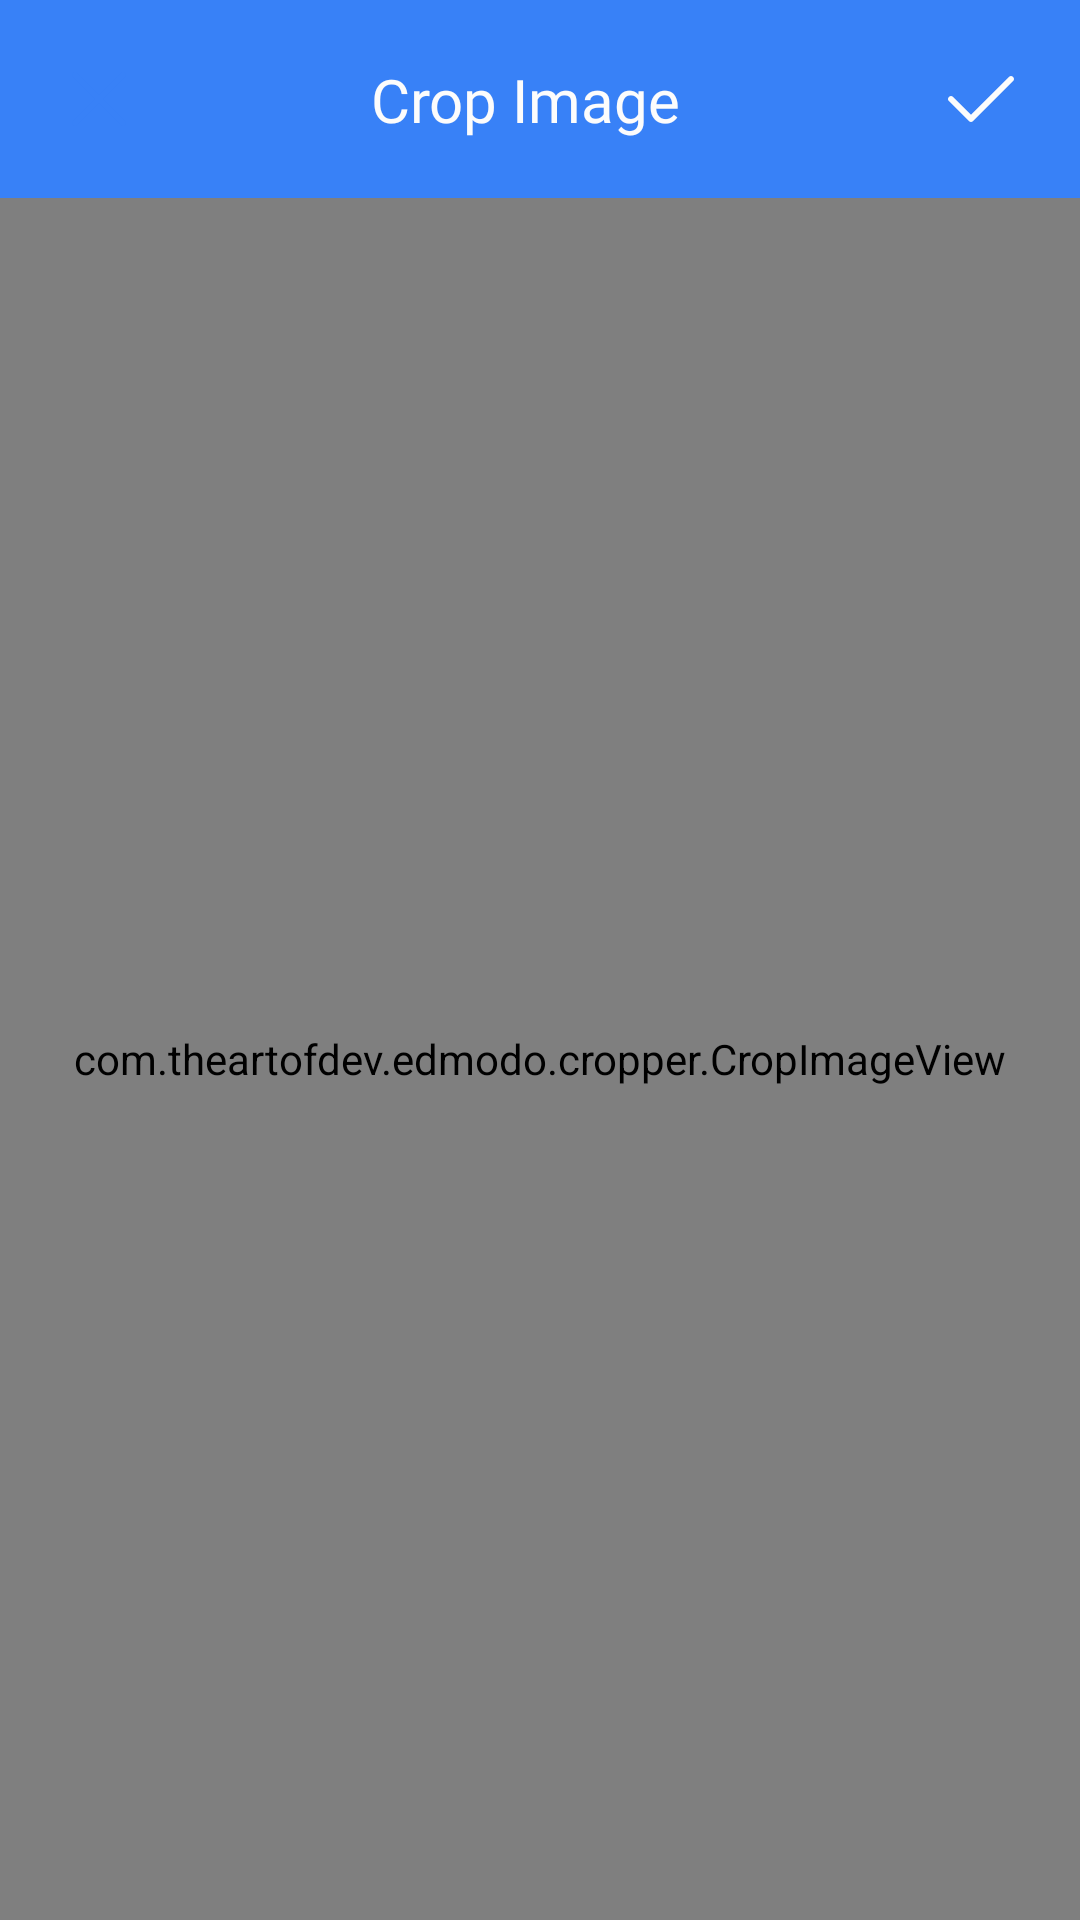

Where to tap for icons on this 1080 × 1920 app screen, as (x=x, y=y):
checked: (x=981, y=99)
